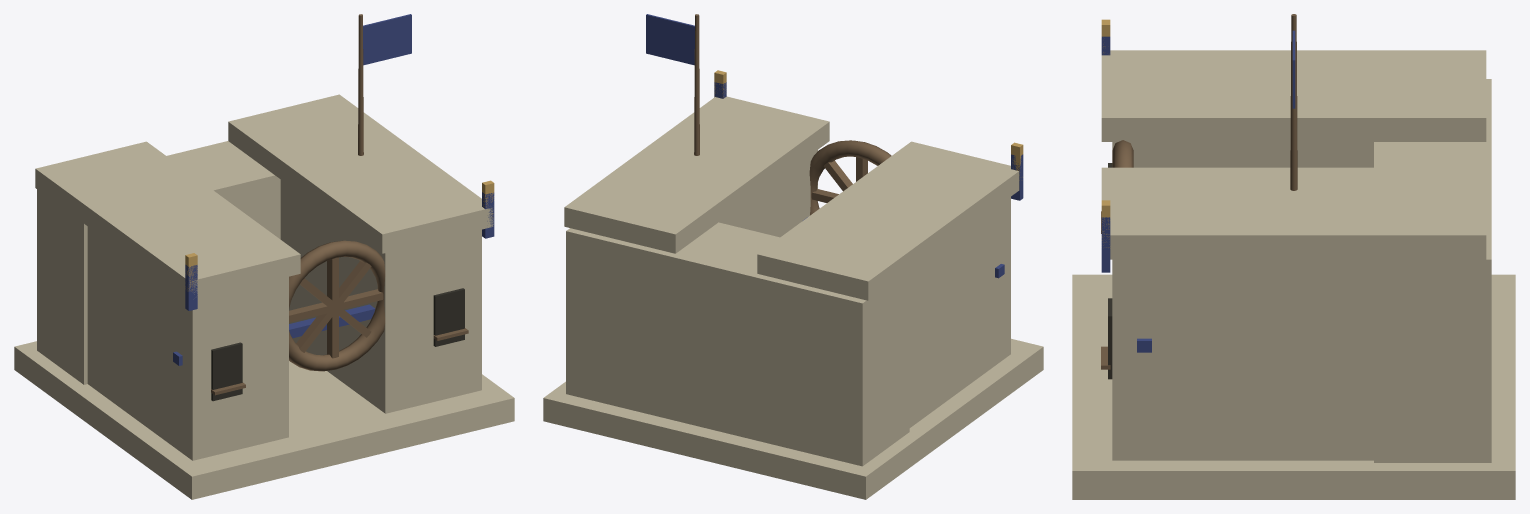
File: b-mill-persian.glb
The picture shows the model from 3 angles, left to right: view 1: azimuth 30°, elevation 25°; view 2: azimuth 150°, elevation 25°; view 3: azimuth 270°, elevation 25°; orthographic projection. The views are drawn at different scales.
Visible parts, largest first — view 1: Structure, rotor, era1, era3; view 2: Structure, rotor; view 3: Structure, era2, rotor.
Part boxes in pixels (box(x1,y1,x2,y2)): Structure: box(14, 14, 514, 499); rotor: box(289, 240, 385, 371); era1: box(185, 201, 494, 310); era3: box(185, 180, 494, 291); Structure: box(543, 14, 1043, 499); rotor: box(809, 140, 891, 215); Structure: box(1072, 14, 1515, 499); era2: box(1101, 36, 1110, 260); rotor: box(1112, 140, 1133, 167).
Size of the model in its own units: 4.35 by 4.6 by 4.15.
